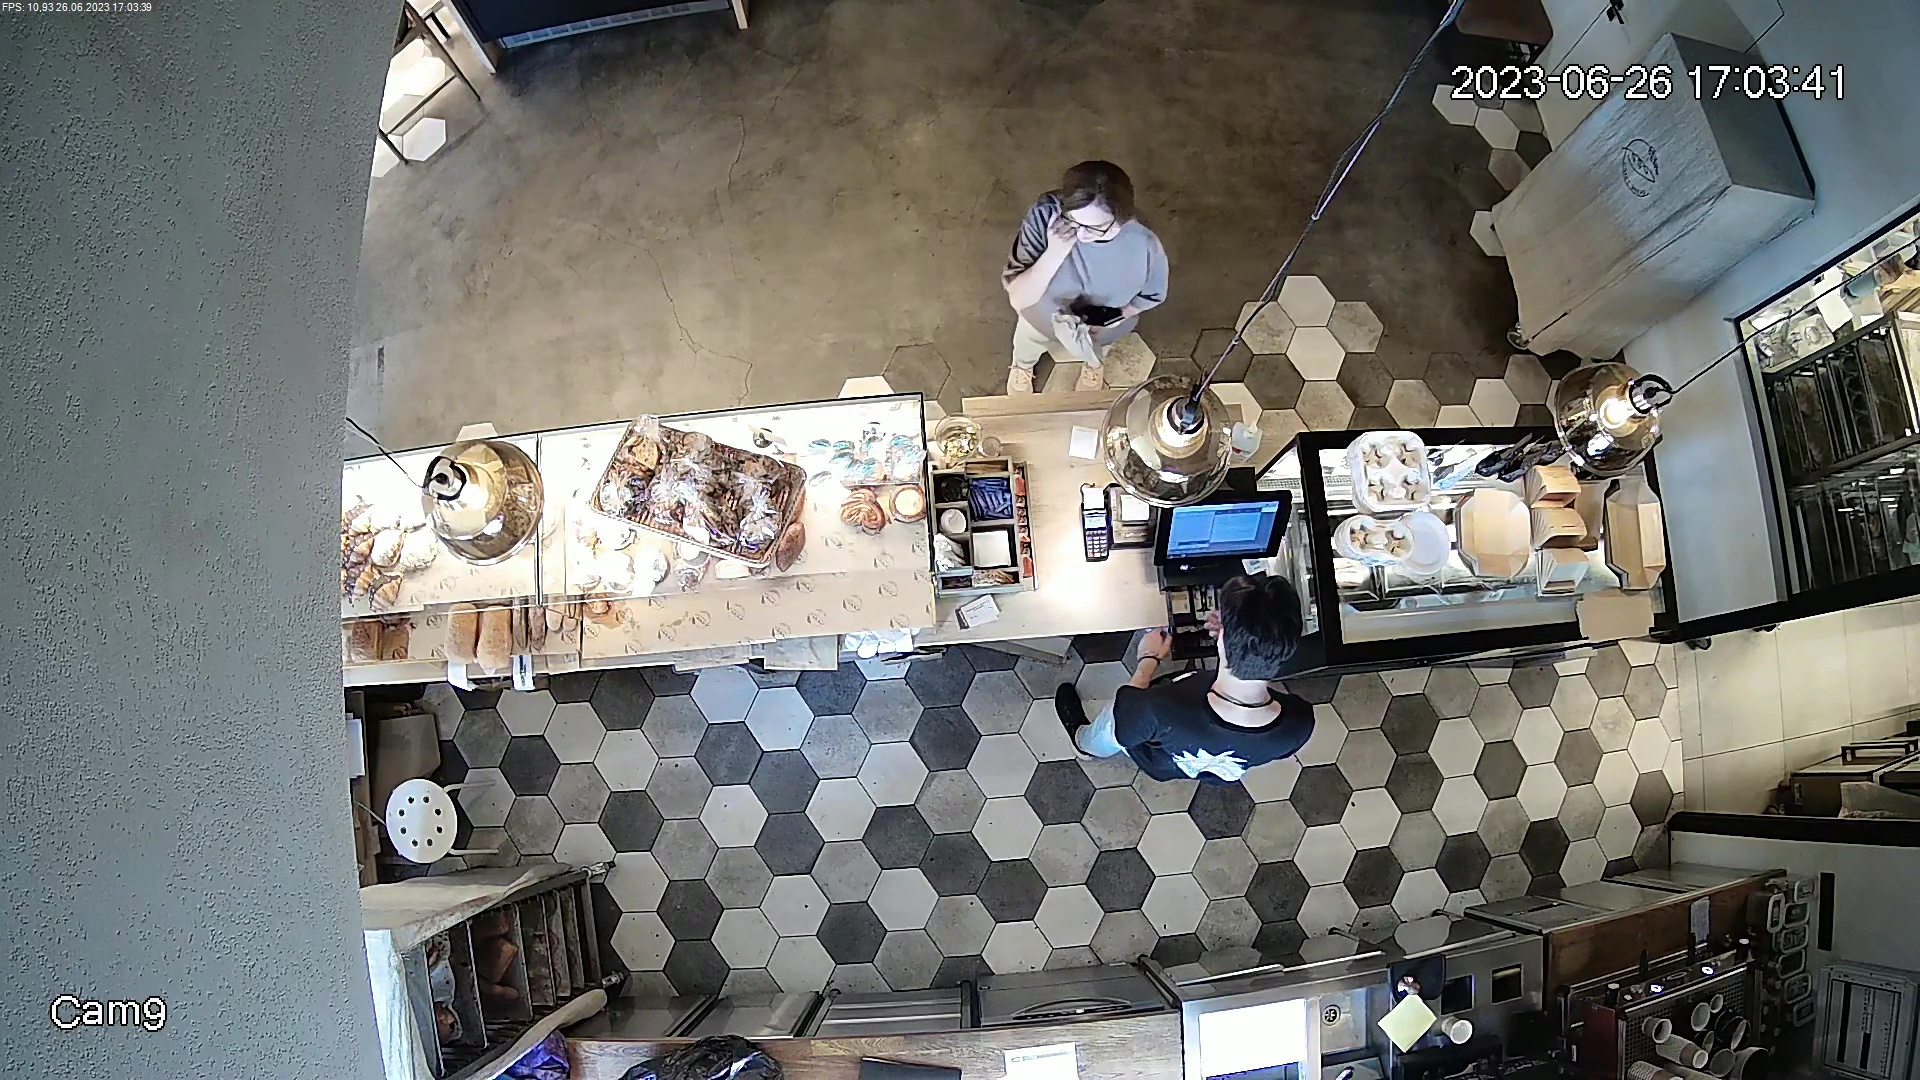openedcash: (1159, 492, 1299, 669)
